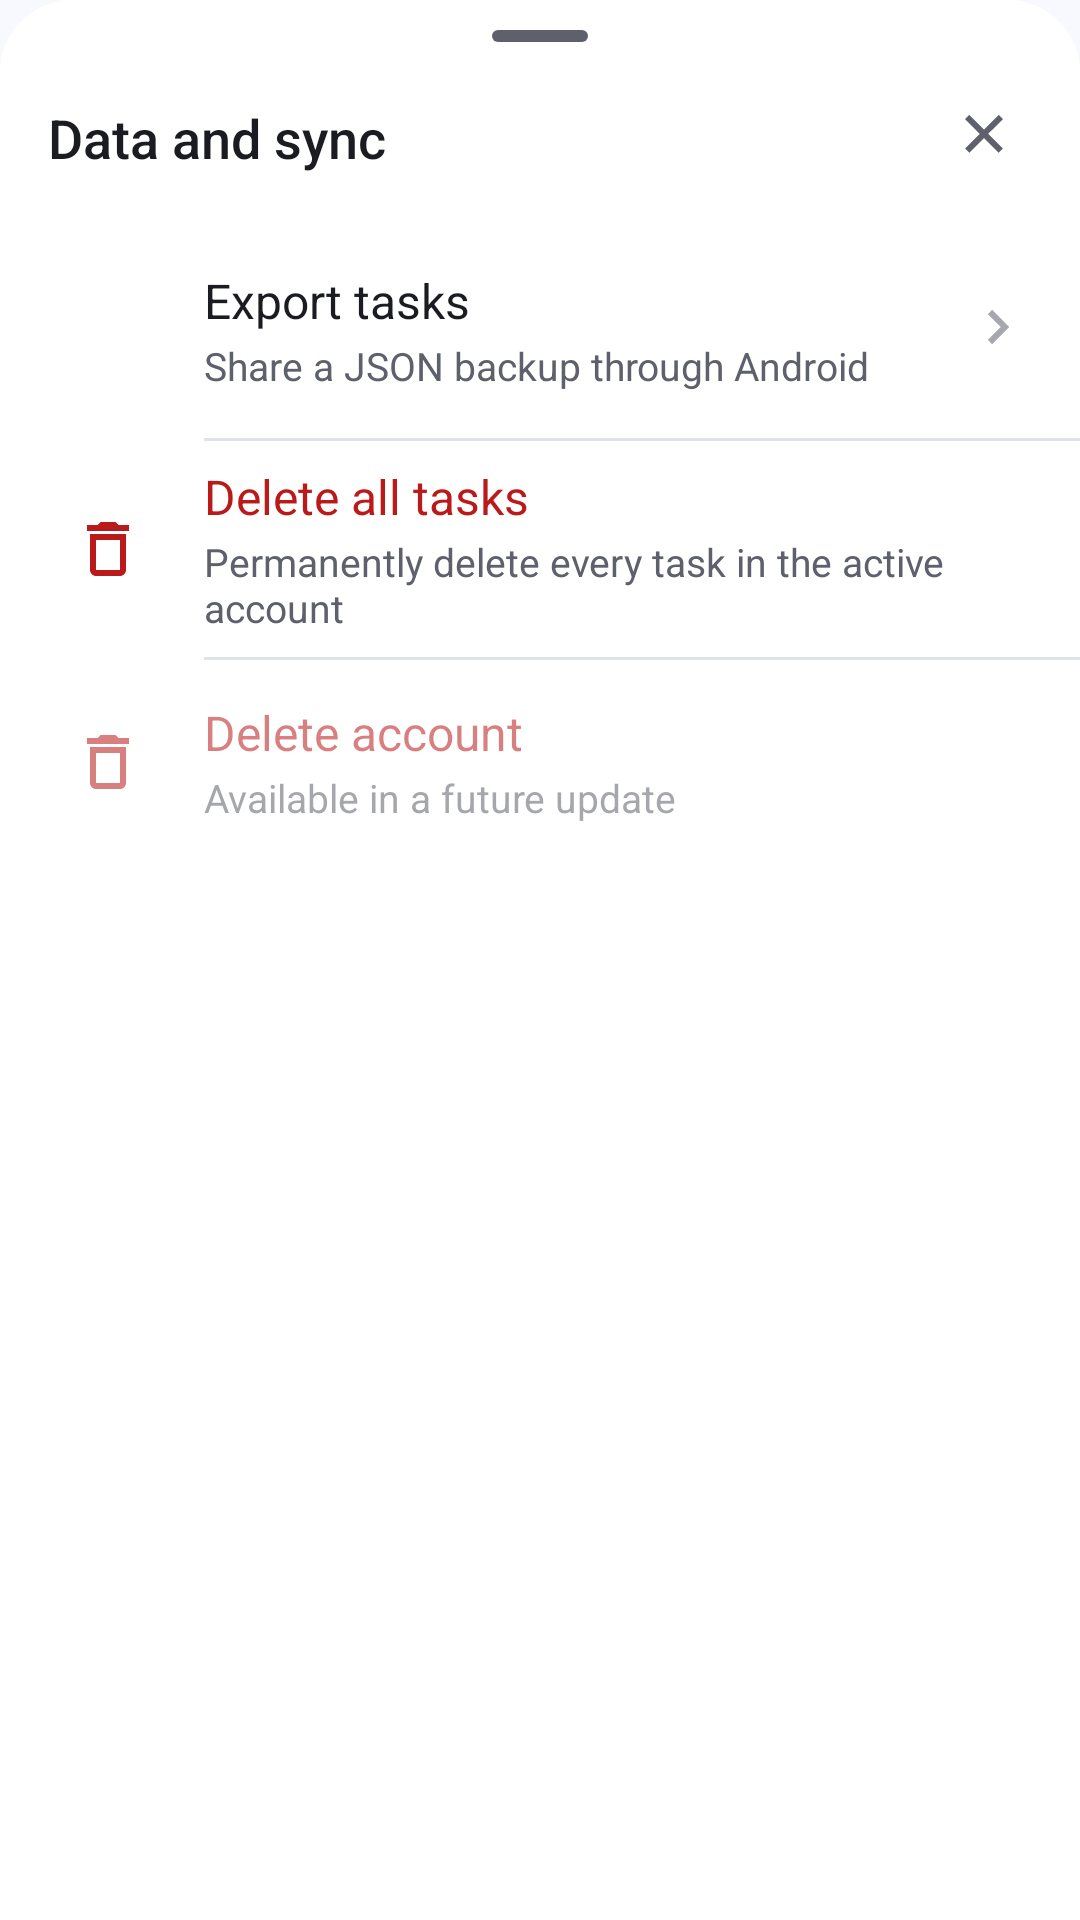

Icon bounding boxes for this 1080×1920 phone screenshot, format box=[x1, y1, x2, y2]:
chevron right: box=[988, 310, 1009, 344]
